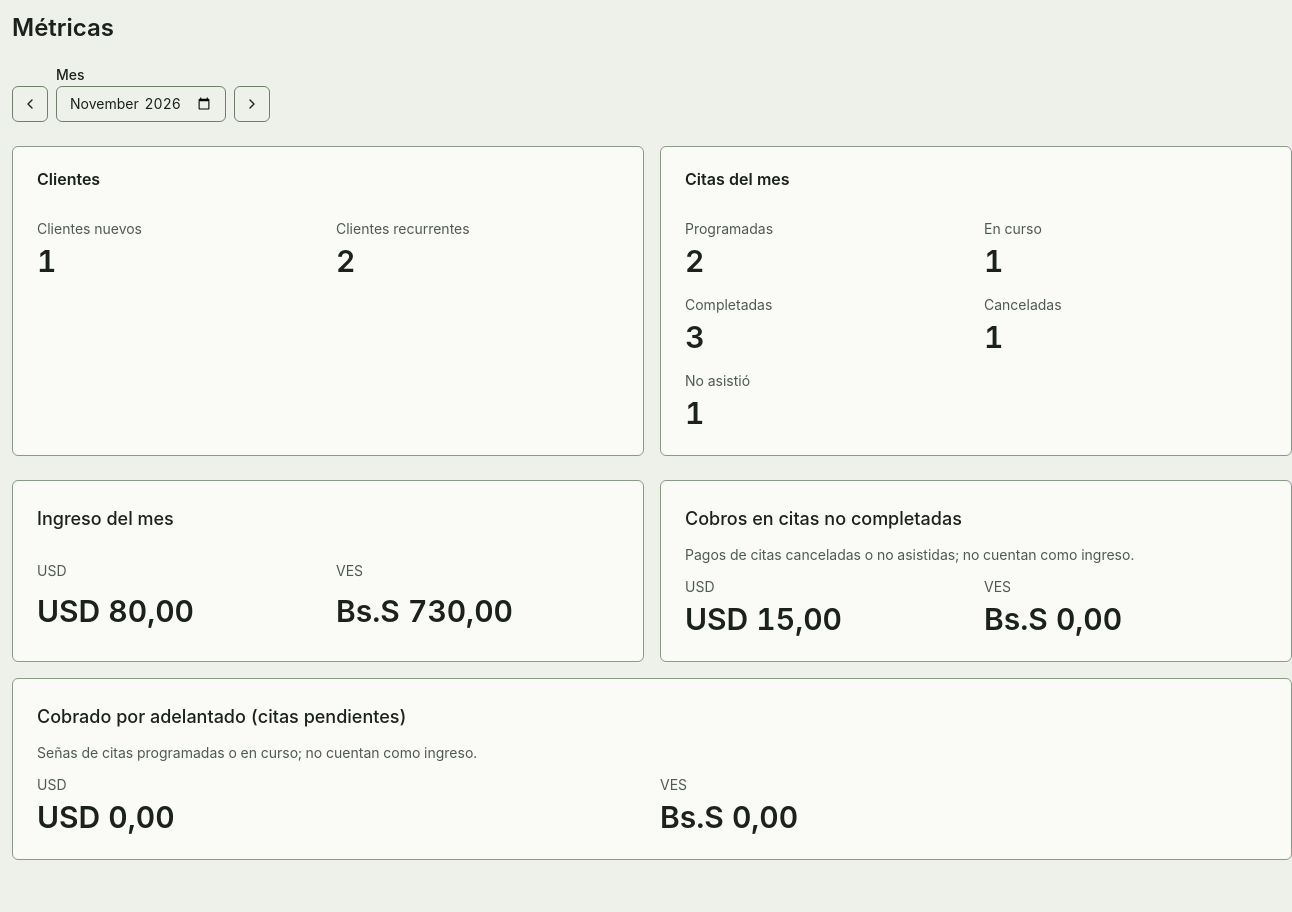
Test: MetricsPage › recalcula al cambiar de mes con el botón anterior
Check: the text "Clientes nuevos" is shown, box [37,220,142,237]
What coordinates should you click on to do the following:
click the button named "Mes anterior"
I would click on:
 (30, 104)
Its box is [12,86,48,122].
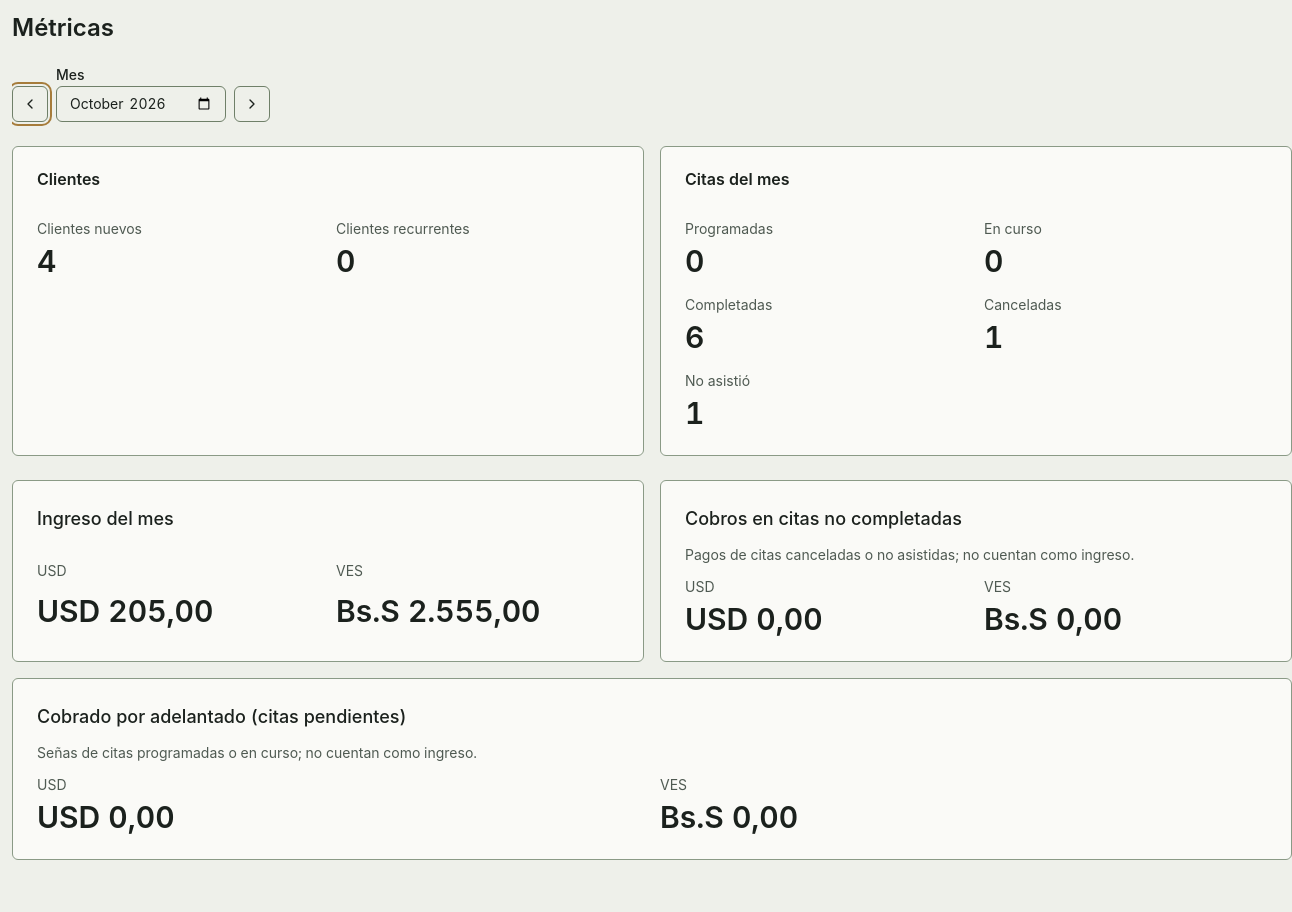
Check: the text "Clientes nuevos" is shown, box [37,220,142,237]
Check: the field labelled "Mes" holds "2026-10", box [56,86,226,122]
